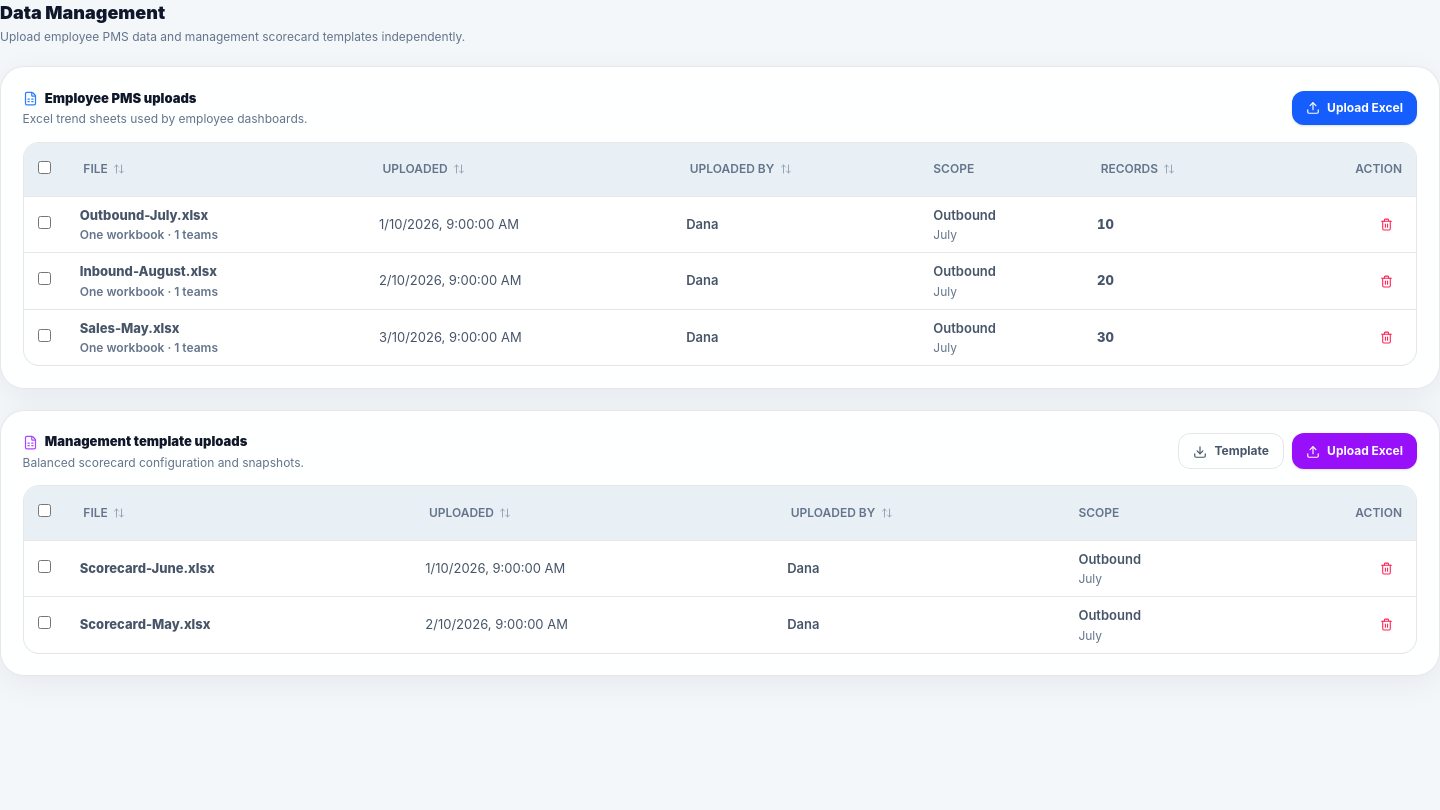
Test: DataManagementPanel batch delete › reports a management success in its own words and reloads the management list
Click the checkbox named "Select Scorecard-June.xlsx".
click(44, 566)  # box [38, 560, 51, 573]
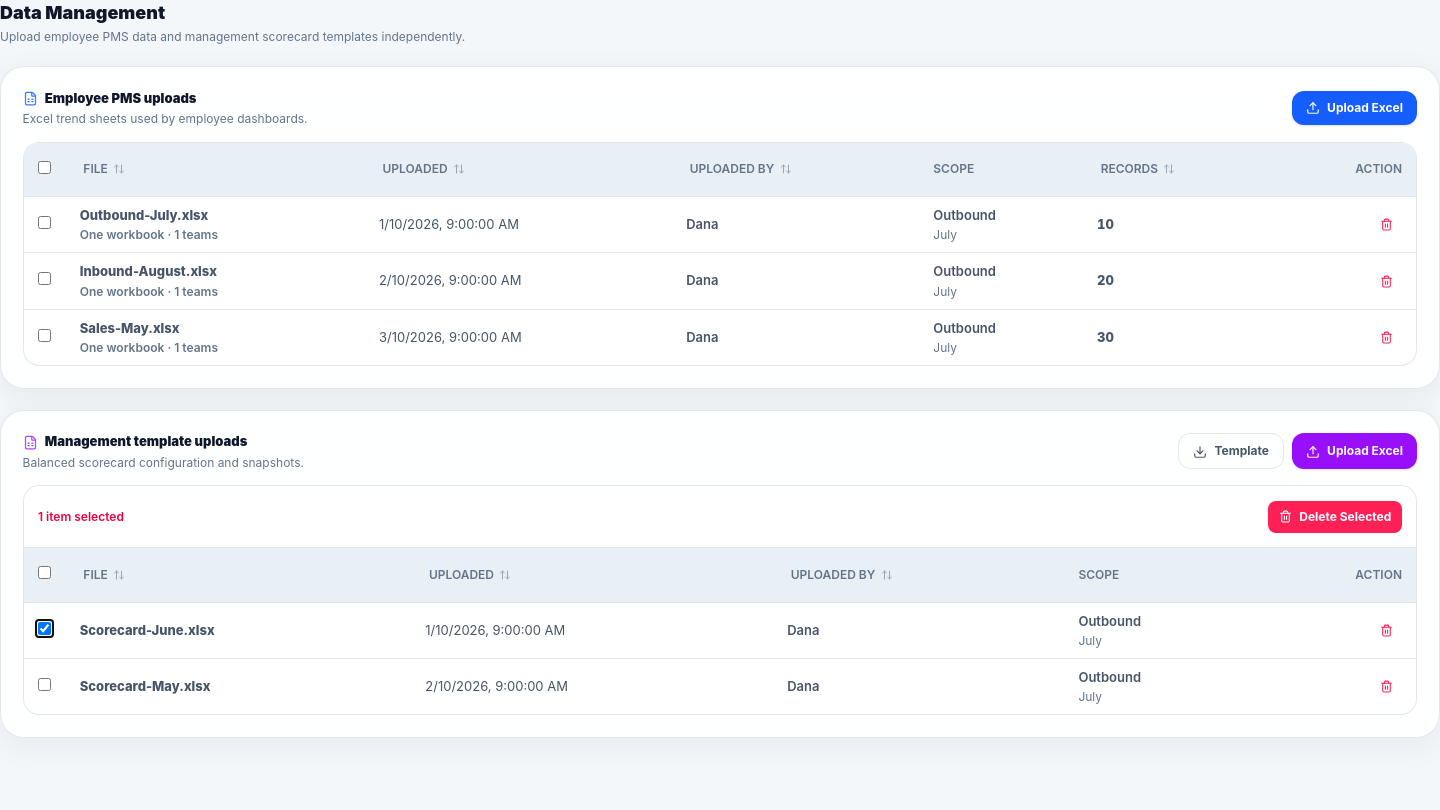
Click the button "Delete Selected".
click(1335, 517)  # box [1268, 501, 1402, 533]
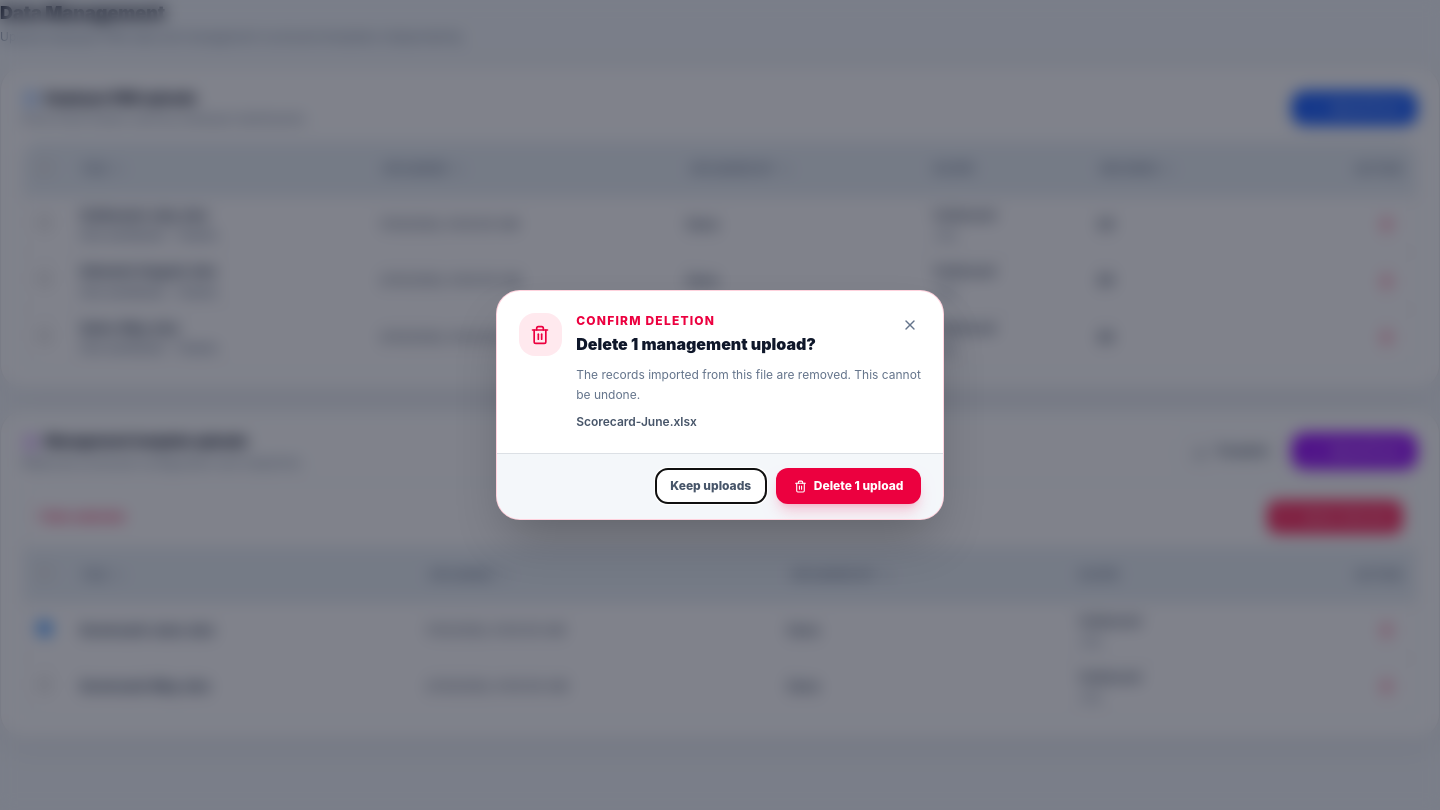
Click the button "Delete 1 upload".
click(848, 486)  # box [776, 468, 921, 504]
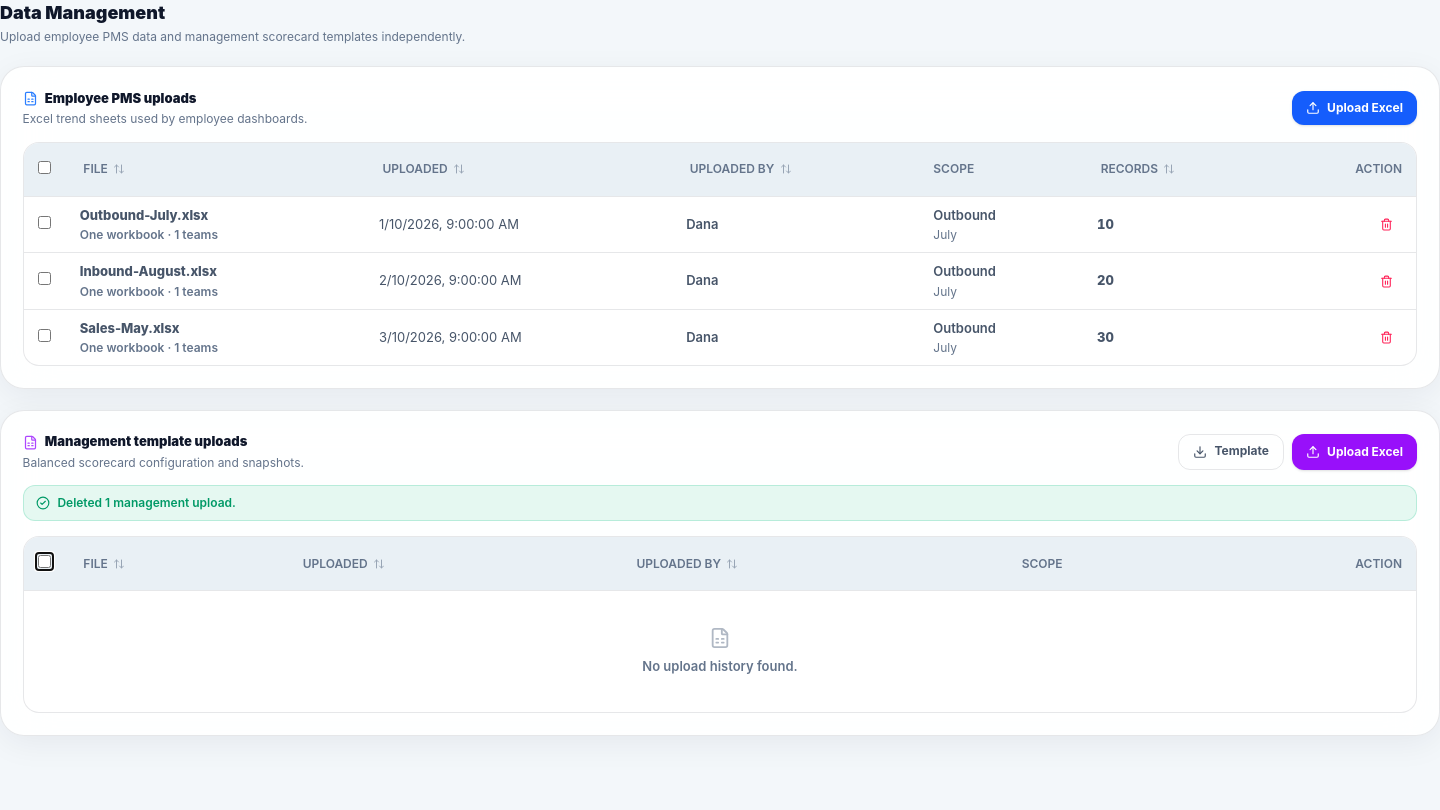
Check: the message reads "Deleted 1 management upload.", box [57, 495, 236, 510]
